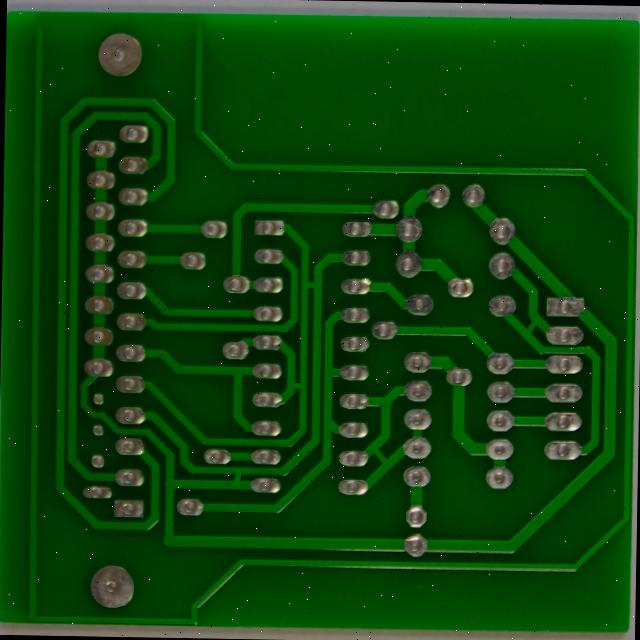short: (361, 436, 391, 473), (515, 306, 543, 342), (289, 265, 321, 293), (218, 460, 240, 493), (279, 368, 302, 395)
